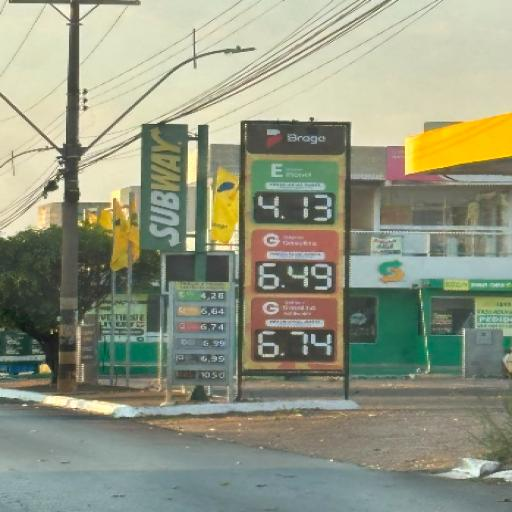ETANOL: (256, 162, 339, 193)
GASOLINA AD: (256, 299, 333, 329)
GASOLINA C: (257, 232, 332, 261)
placa: (241, 124, 346, 373)
preco: (255, 193, 334, 224), (255, 331, 336, 359), (254, 265, 338, 292)
